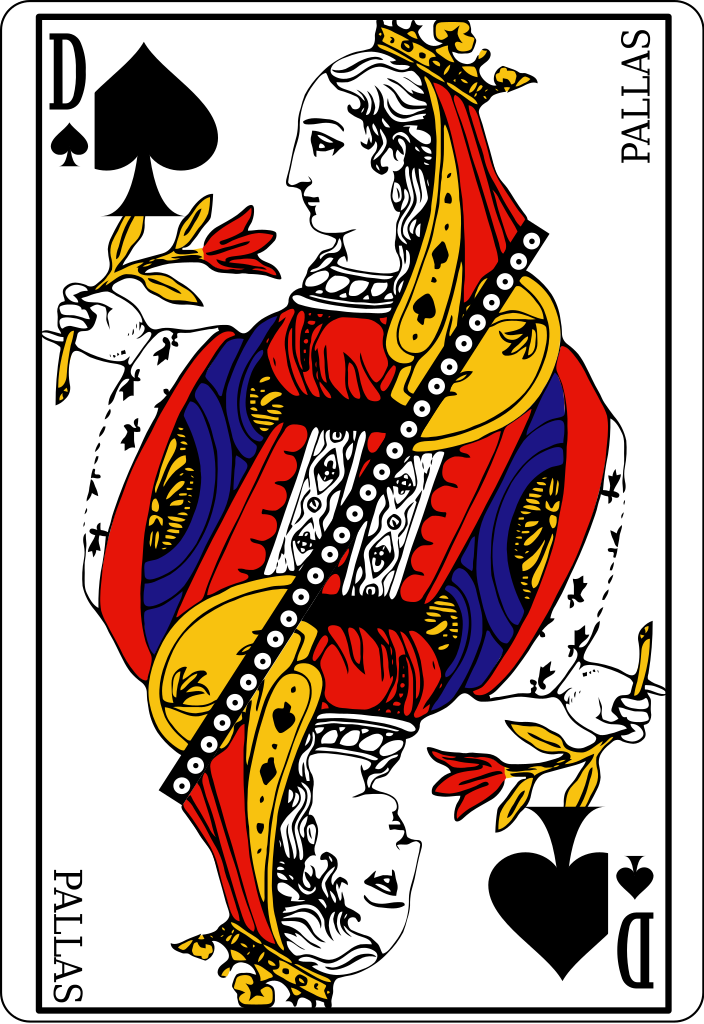queen of spades: (41, 16, 673, 1005)
